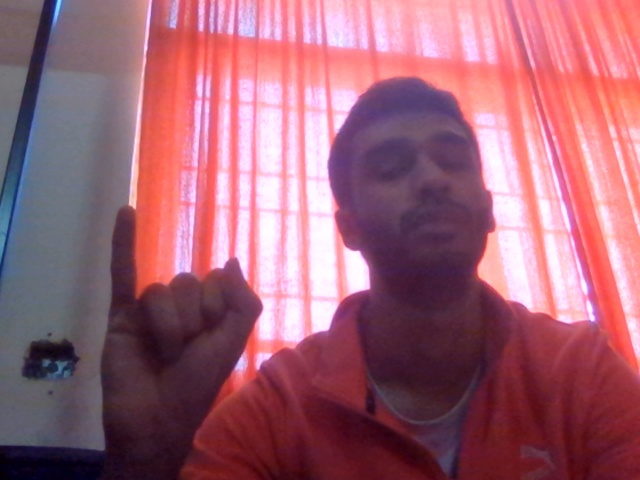I: (76, 181, 288, 475)
